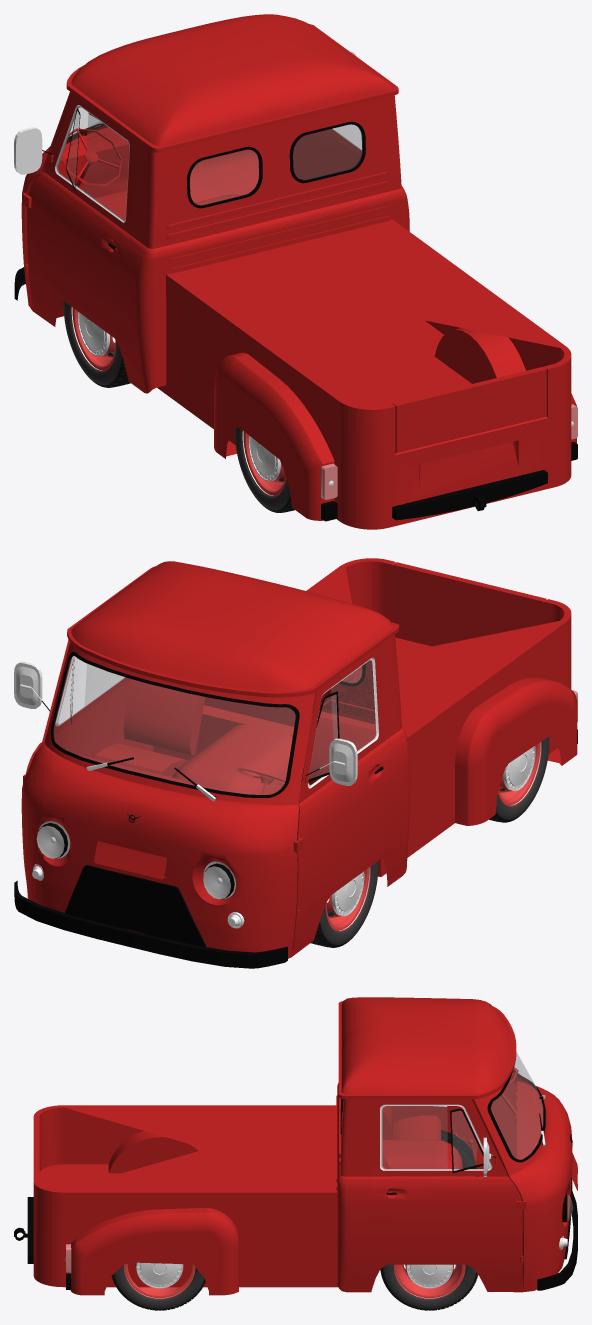
File: uaz_truck_1k.gltf
The picture shows the model from 3 angles, top to bottom: view 1: azimuth 30°, elevation 25°; view 2: azimuth 150°, elevation 25°; view 3: azimuth 270°, elevation 25°; orthographic projection. The views are drawn at different scales.
Parts seen in each view (by area): view 1: Geode; view 2: Geode; view 3: Geode.
Boxes of the visible parts, x1,y1,x2,y2 form: Geode: [14, 14, 577, 529]; Geode: [14, 558, 577, 968]; Geode: [14, 997, 577, 1310].
Size of the model in its own units: 2.05 by 1.75 by 3.72.
